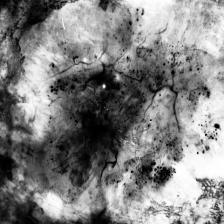Potentially Malignant Skin Tumors: (50, 62, 184, 186)
